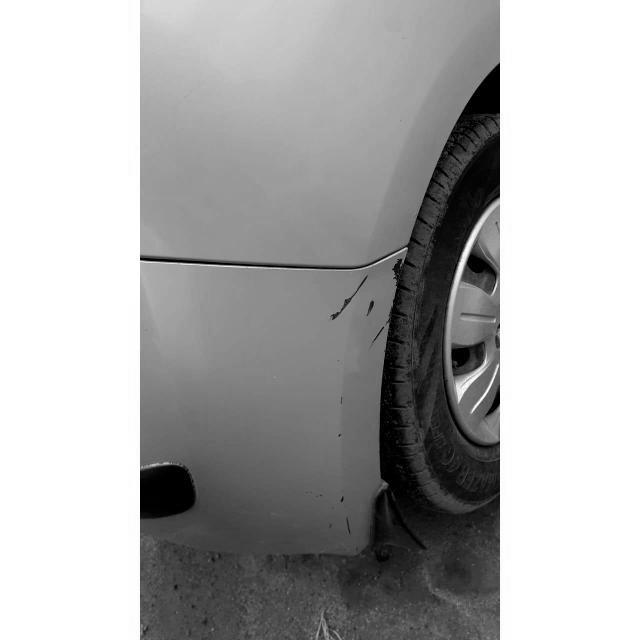rear-bumper-dent: (141, 218, 442, 570)
